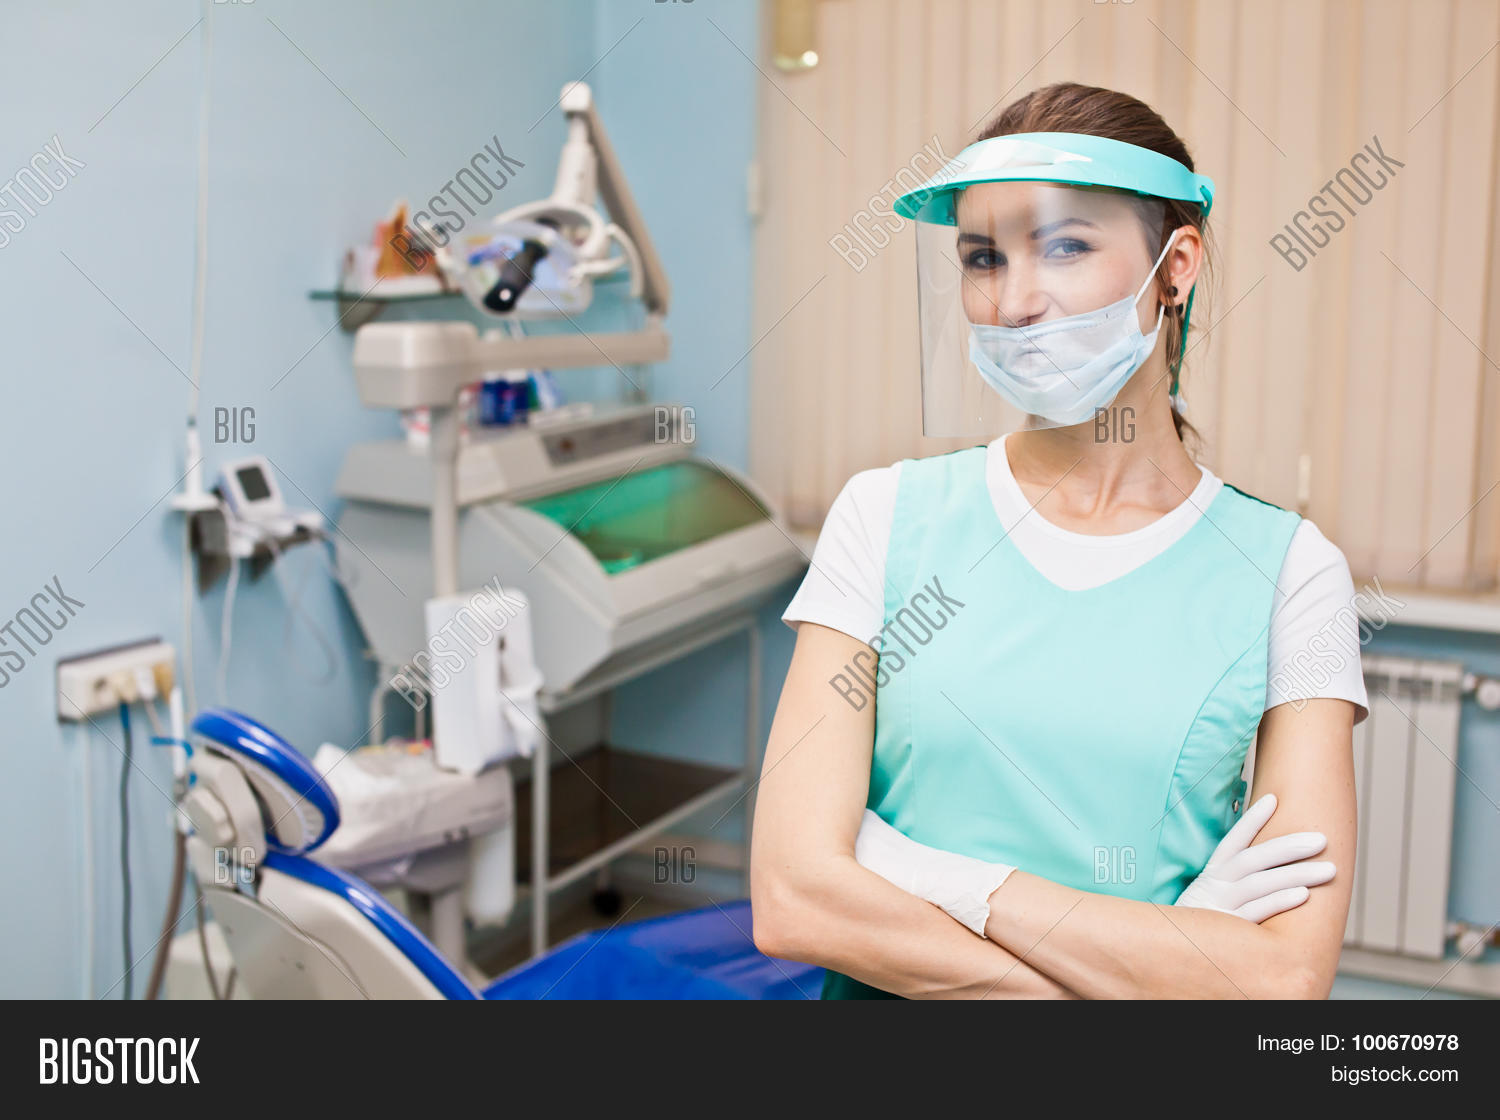mask: (966, 300, 1158, 427)
